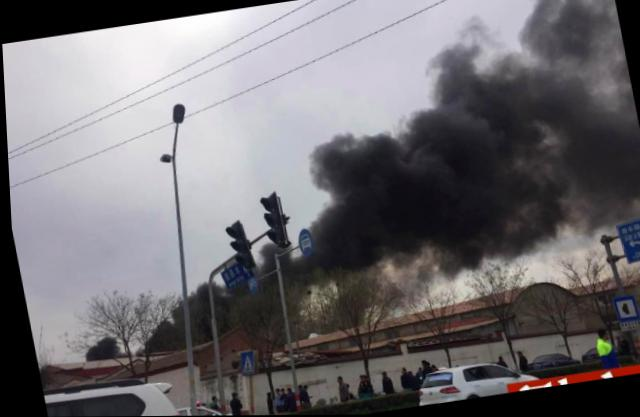smoke: (409, 38, 548, 260), (508, 0, 639, 227), (295, 113, 444, 272)
